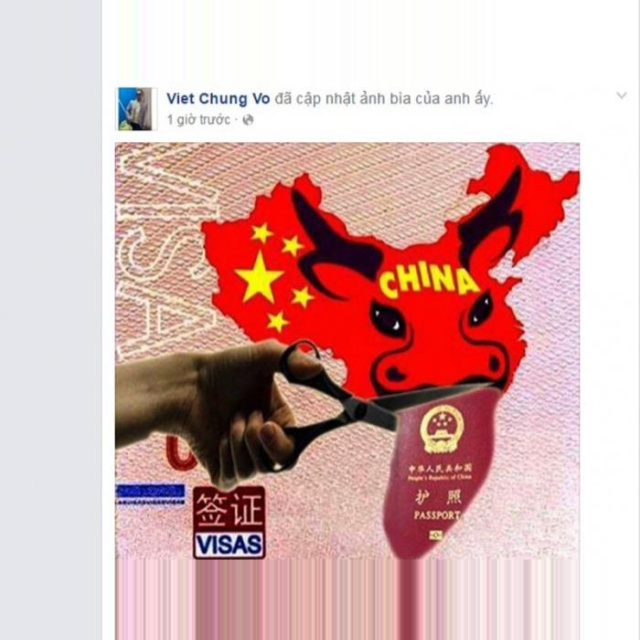Nine Dash Line: (368, 346, 515, 638)
